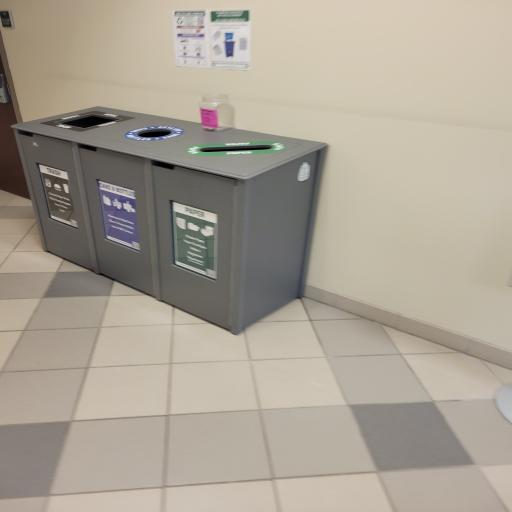can and bottle trash cans: (85, 110, 208, 269)
paper trash can: (156, 127, 324, 316)
trash can: (22, 103, 137, 261)
